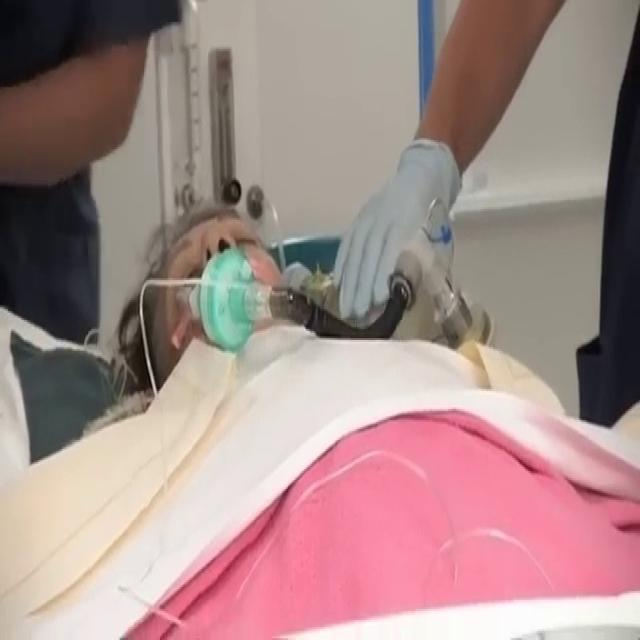nurse: (331, 0, 639, 427)
patient: (2, 198, 638, 636), (83, 196, 566, 438)
